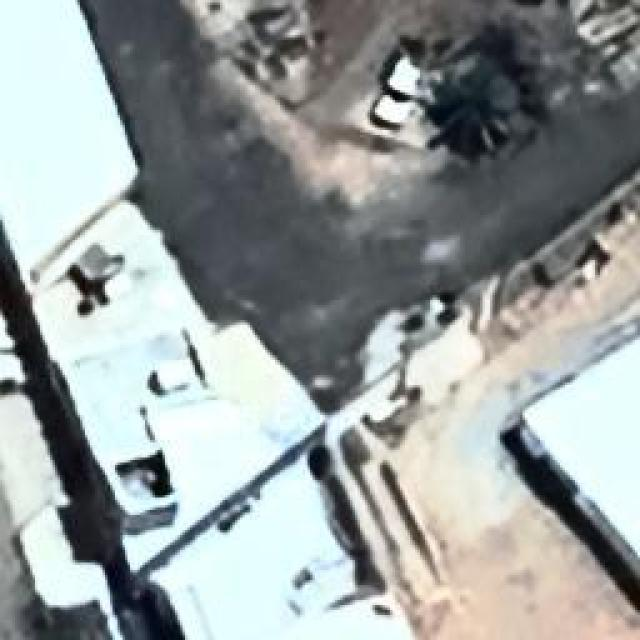PalmTree: (90, 90, 475, 463)
